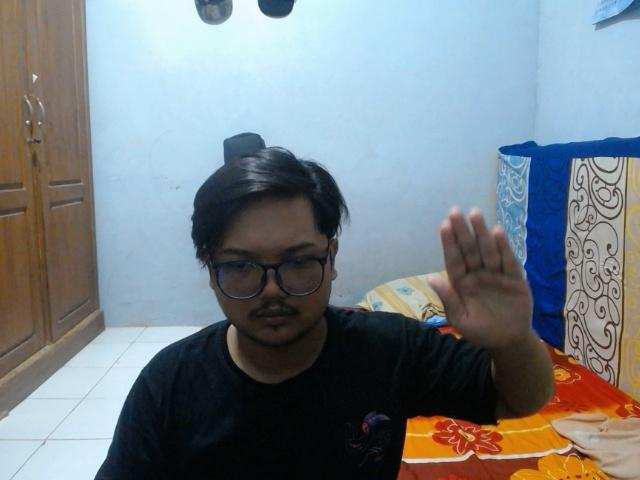Release: (422, 197, 537, 360)
